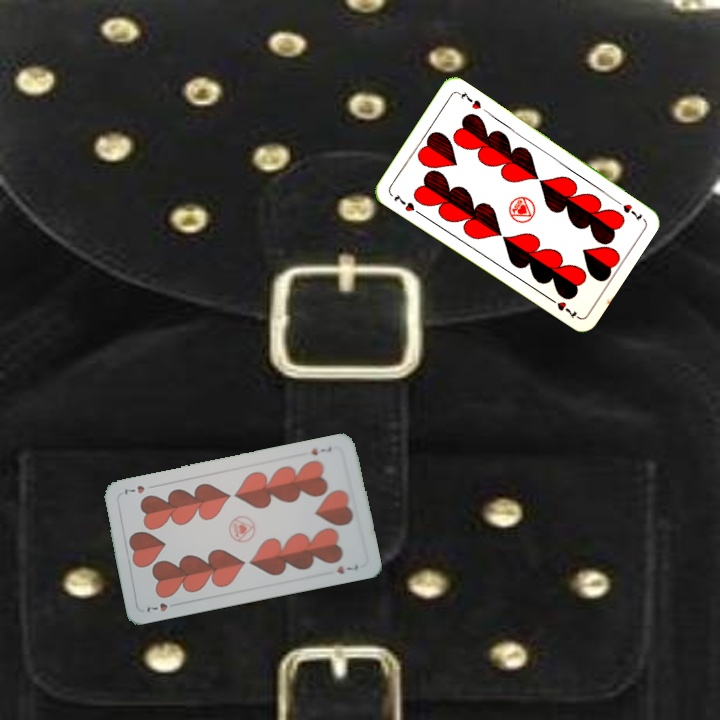H7: (610, 194, 645, 222), (390, 190, 424, 217), (143, 599, 181, 615), (307, 443, 334, 458)
